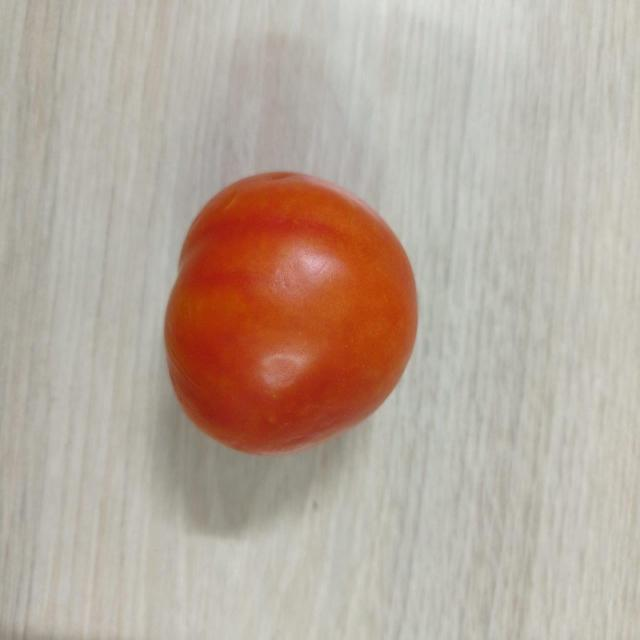Tomato: (164, 162, 421, 458)
